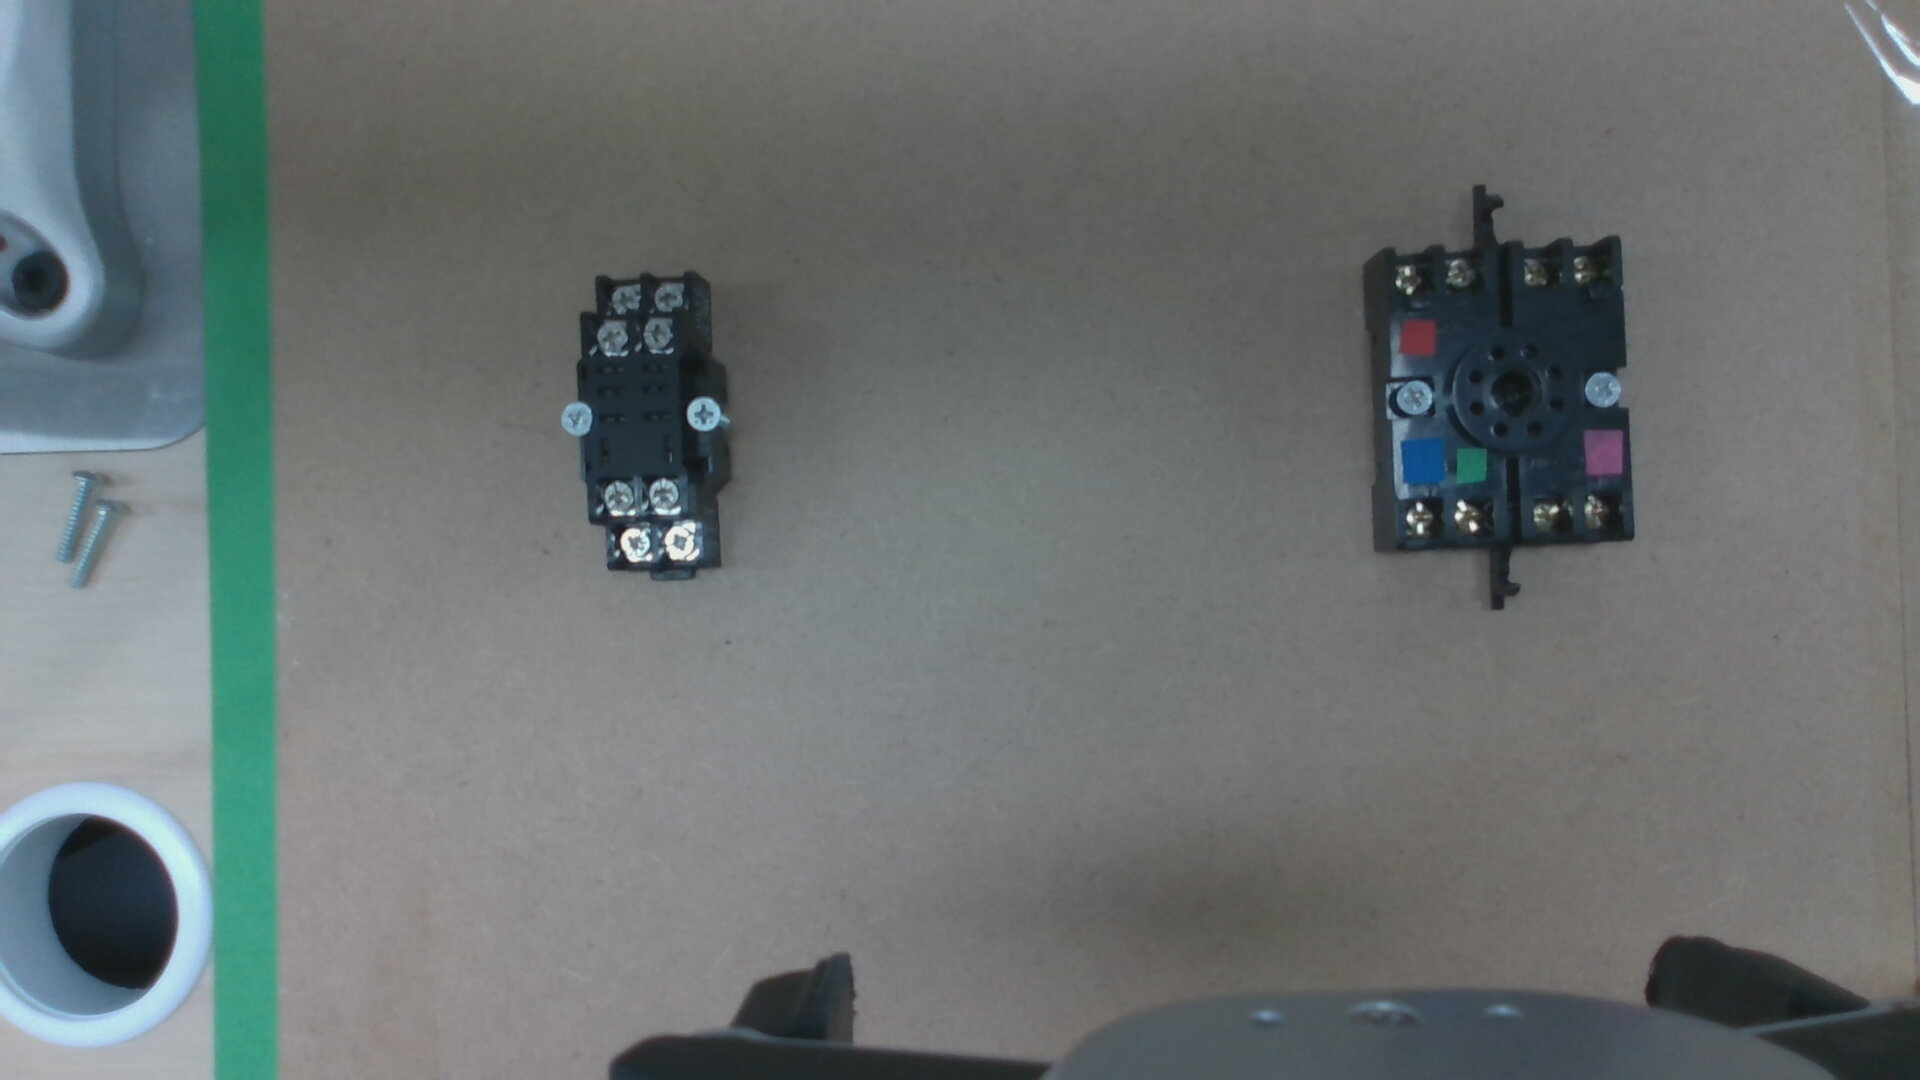relay 3: (651, 285, 680, 309)
relay 4: (608, 289, 637, 309)
relay 5: (665, 526, 694, 558)
relay 6: (617, 527, 647, 556)
relay 7: (647, 483, 676, 512)
relay 8: (599, 483, 633, 512)
